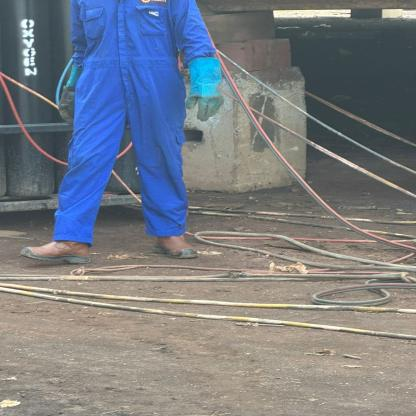bota: (17, 231, 94, 271), (152, 226, 196, 260)
